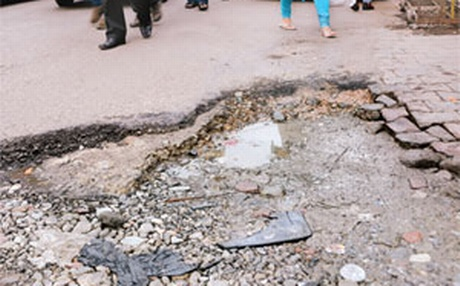pothole: (18, 59, 419, 217)
